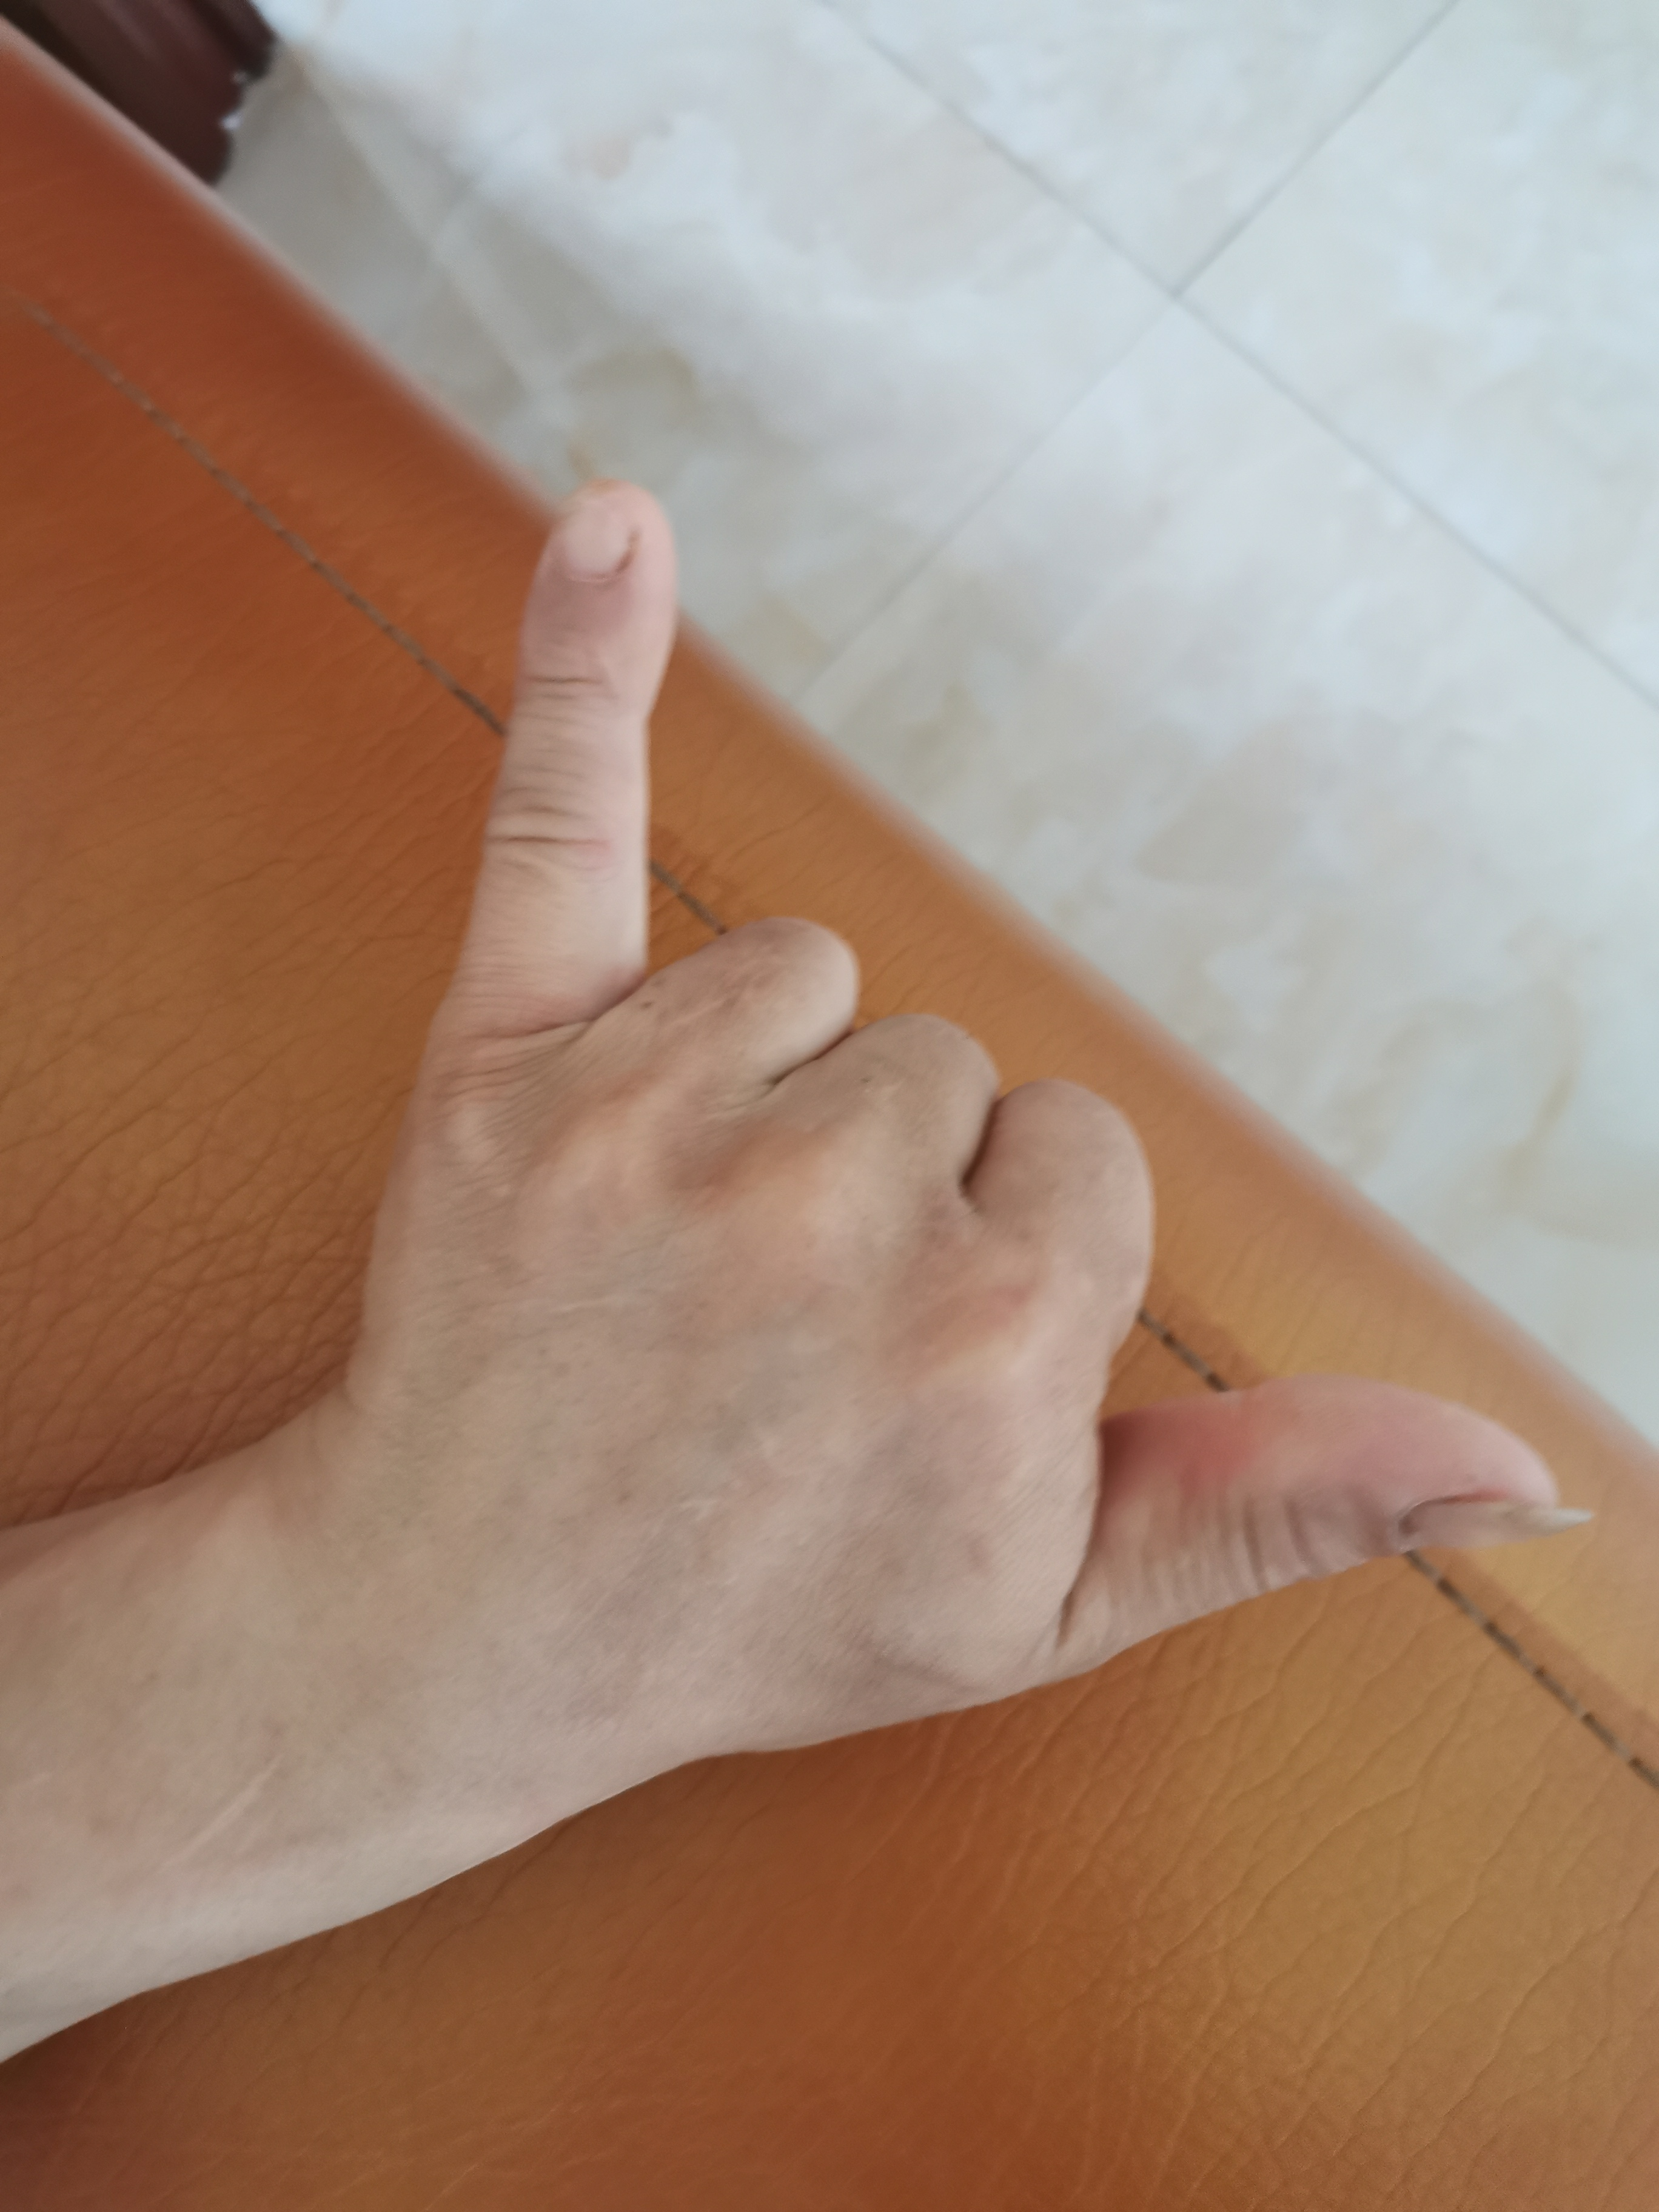clockwise: (319, 486, 1513, 1784)
